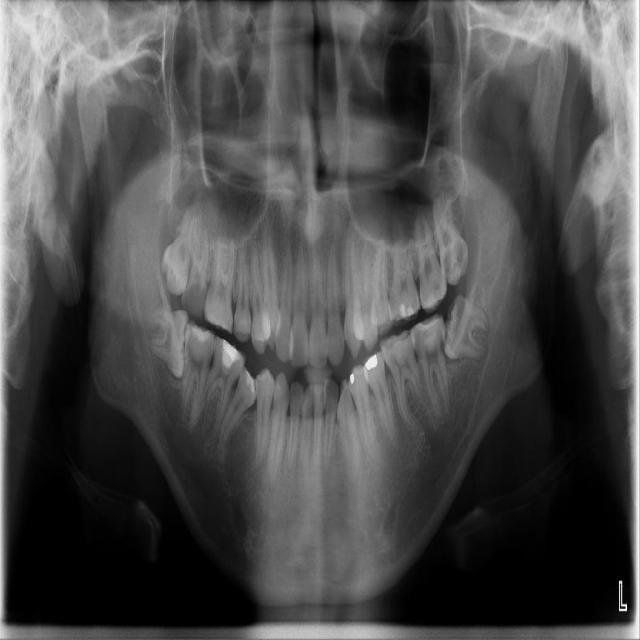3M ESPE Implant: (156, 200, 201, 295)
52: (201, 334, 254, 384), (235, 366, 263, 409), (389, 287, 420, 325), (181, 282, 210, 319), (347, 364, 370, 400), (362, 351, 386, 385), (432, 331, 446, 357), (455, 298, 468, 318), (454, 245, 466, 266), (445, 253, 452, 274), (433, 282, 441, 300), (443, 333, 448, 349), (252, 328, 254, 335)
73: (626, 629, 634, 635)
BioHorizons Implant: (413, 213, 449, 316)
BioLife Implant: (428, 187, 473, 287)
Biomet 3i Implant: (439, 294, 492, 362)
Blue Sky Bio Implant: (409, 312, 453, 421)
Caries: (180, 223, 212, 317)
Implant: (179, 321, 218, 428)
Keystone Dental Implant: (144, 305, 197, 379)
